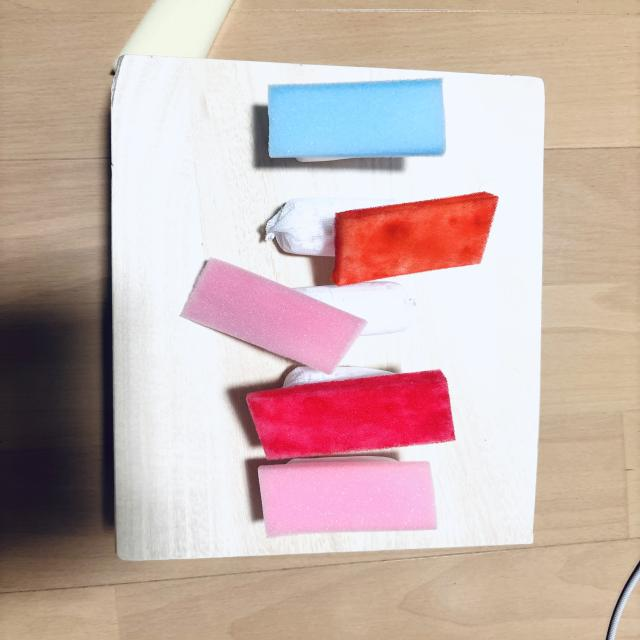NG: (181, 259, 415, 374), (266, 192, 498, 288), (247, 367, 455, 459)
ika: (268, 79, 446, 161)
tai: (258, 457, 437, 537)
